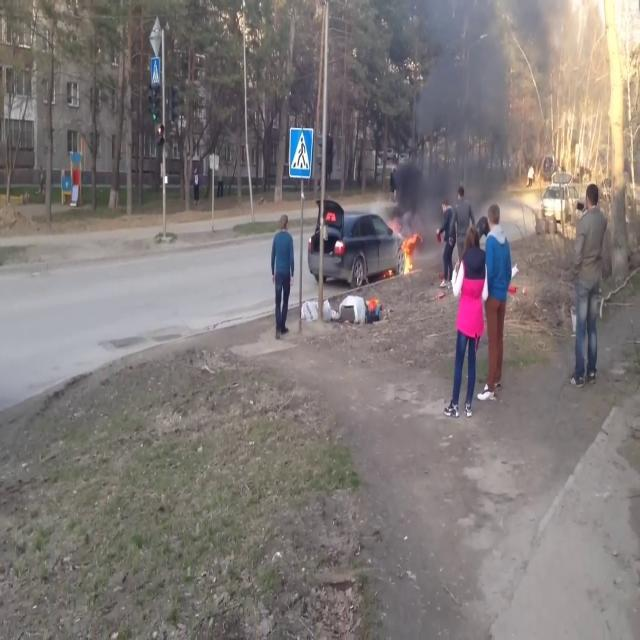Fire: (398, 228, 420, 278)
Smoke: (394, 0, 522, 232)
